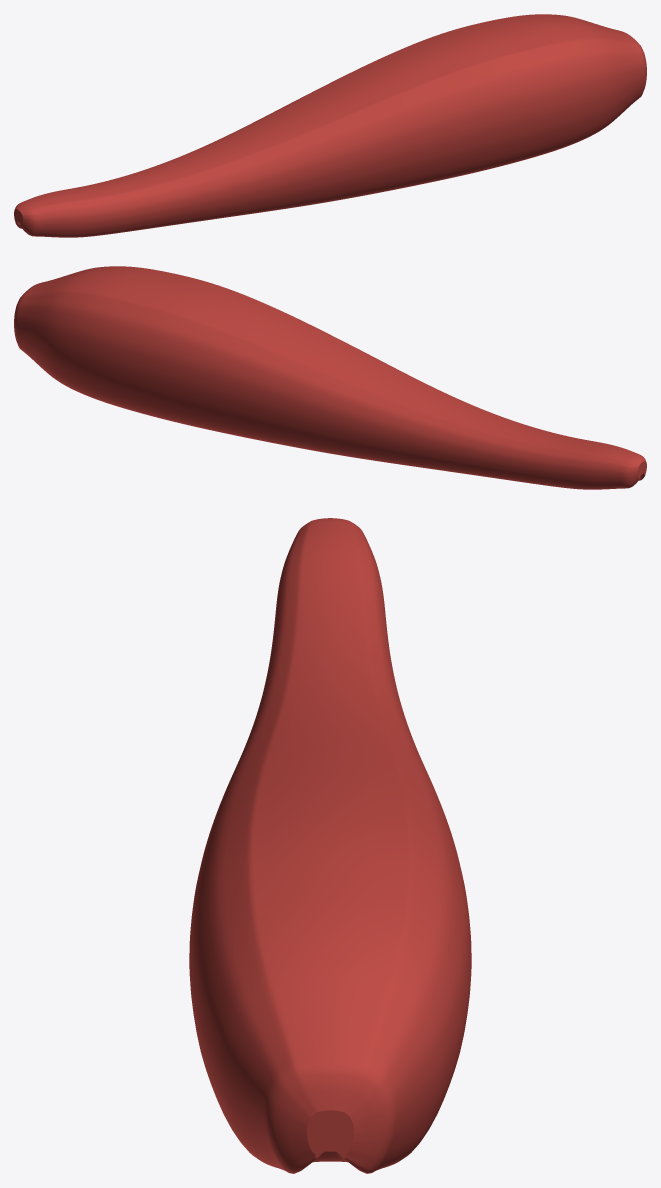
File: chopper_4.glb
3 renders of one model, top to bottom at view 1: azimuth 30°, elevation 25°; view 2: azimuth 150°, elevation 25°; view 3: azimuth 270°, elevation 25°, orthographic. The views are drawn at different scales.
Visible parts, largest first — view 1: chopper_4; view 2: chopper_4; view 3: chopper_4.
Boxes of the visible parts, x1=… form: chopper_4: x1=14, y1=14, x2=646, y2=237; chopper_4: x1=14, y1=266, x2=646, y2=489; chopper_4: x1=189, y1=518, x2=471, y2=1173.
Bounding box in the file's own units: 1.06 × 0.1816 × 0.2099.
